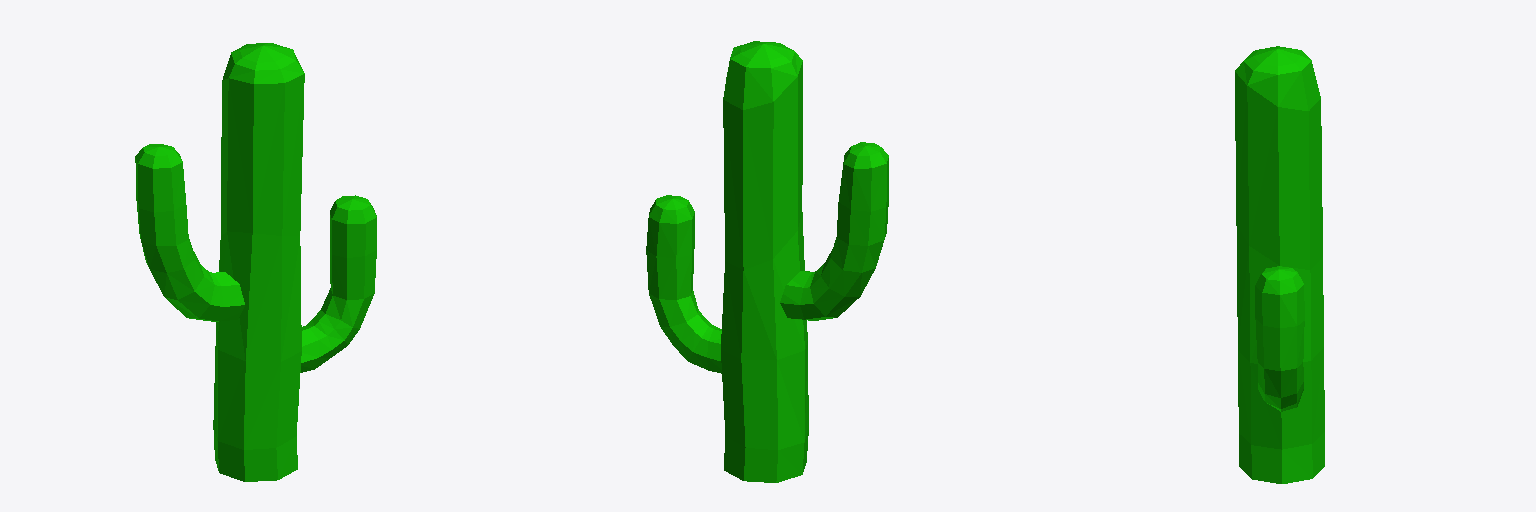
File: Cactus.obj
The picture shows the model from 3 angles: view 1: azimuth 30°, elevation 25°; view 2: azimuth 150°, elevation 25°; view 3: azimuth 270°, elevation 25°; orthographic projection.
Parts seen in each view (by area): view 1: Circle_Circle.003, Circle.001_Circle.004, Circle.002_Circle.005; view 2: Circle_Circle.003, Circle.001_Circle.004, Circle.002_Circle.005; view 3: Circle_Circle.003, Circle.002_Circle.005.
Boxes of the visible parts, x1=… form: Circle_Circle.003: x1=213, y1=43, x2=304, y2=481; Circle.001_Circle.004: x1=135, y1=144, x2=244, y2=321; Circle.002_Circle.005: x1=301, y1=195, x2=376, y2=372; Circle_Circle.003: x1=721, y1=41, x2=808, y2=482; Circle.001_Circle.004: x1=780, y1=142, x2=888, y2=320; Circle.002_Circle.005: x1=646, y1=195, x2=721, y2=373; Circle_Circle.003: x1=1235, y1=46, x2=1324, y2=483; Circle.002_Circle.005: x1=1255, y1=266, x2=1304, y2=411.
Size of the model in its own units: 6.35 by 10.75 by 2.1.